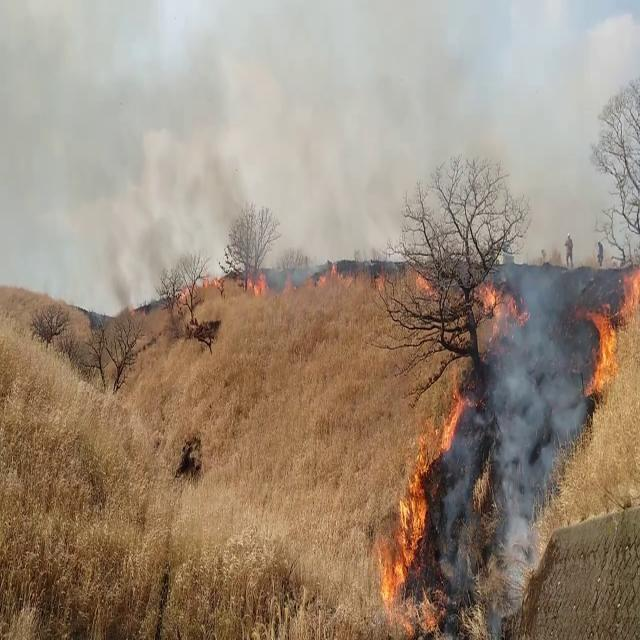Fire: (376, 428, 434, 628), (582, 248, 640, 396), (438, 380, 472, 455), (244, 266, 271, 298)
Smoke: (0, 0, 436, 309), (469, 226, 599, 595)
